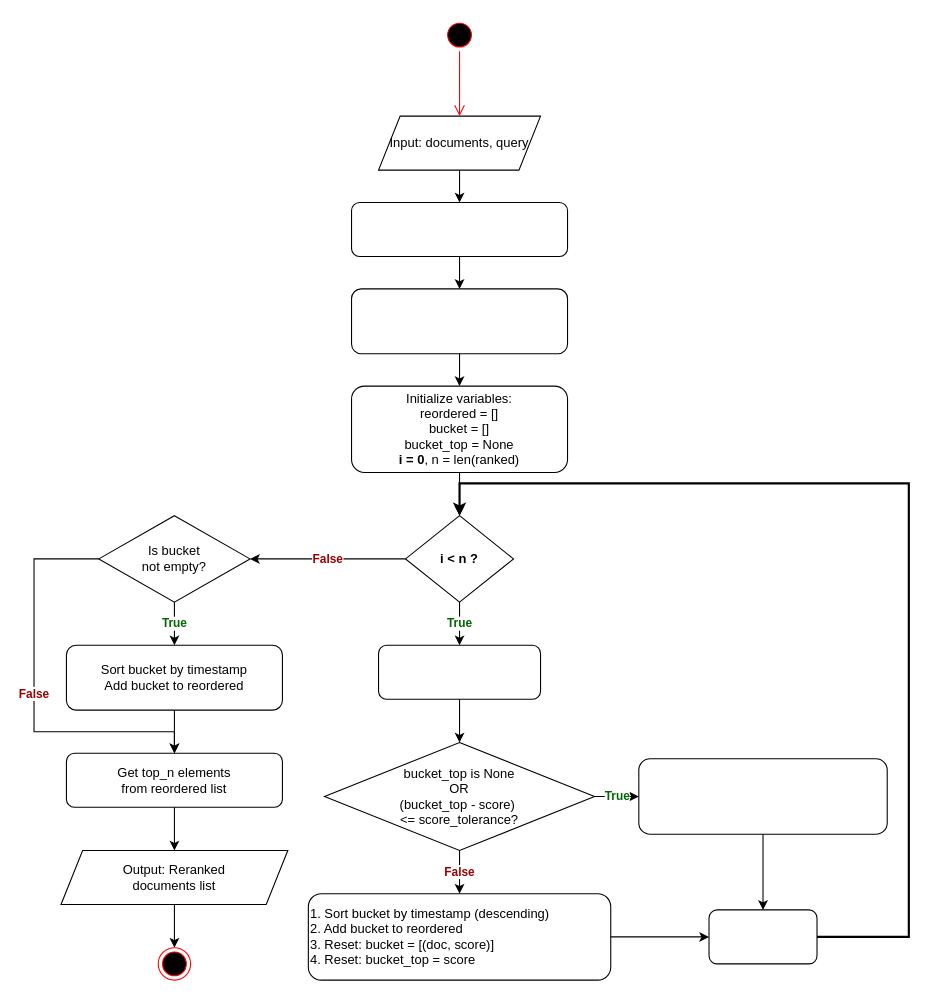
The diagram is 936 pixels wide and 999 high, and some of its shapes have lost their labels. The centre of each missing label's shape, as x and y in pixels:
"Add (doc, score) to bucket Update bucket_top = score (if null)" goes at point 762,796.
"Calculate Cross-Encoder scores for all documents" goes at point 459,228.
"Get current element: doc, score = ranked[i]" goes at point 459,671.
"i = i + 1" goes at point 762,936.
"Sort list ranked: By score (descending) and By timestamp (descending)" goes at point 459,321.
